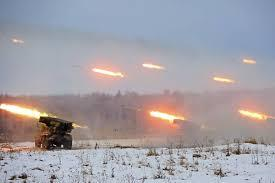MIL_SAM_TEL: (34, 114, 73, 152)
